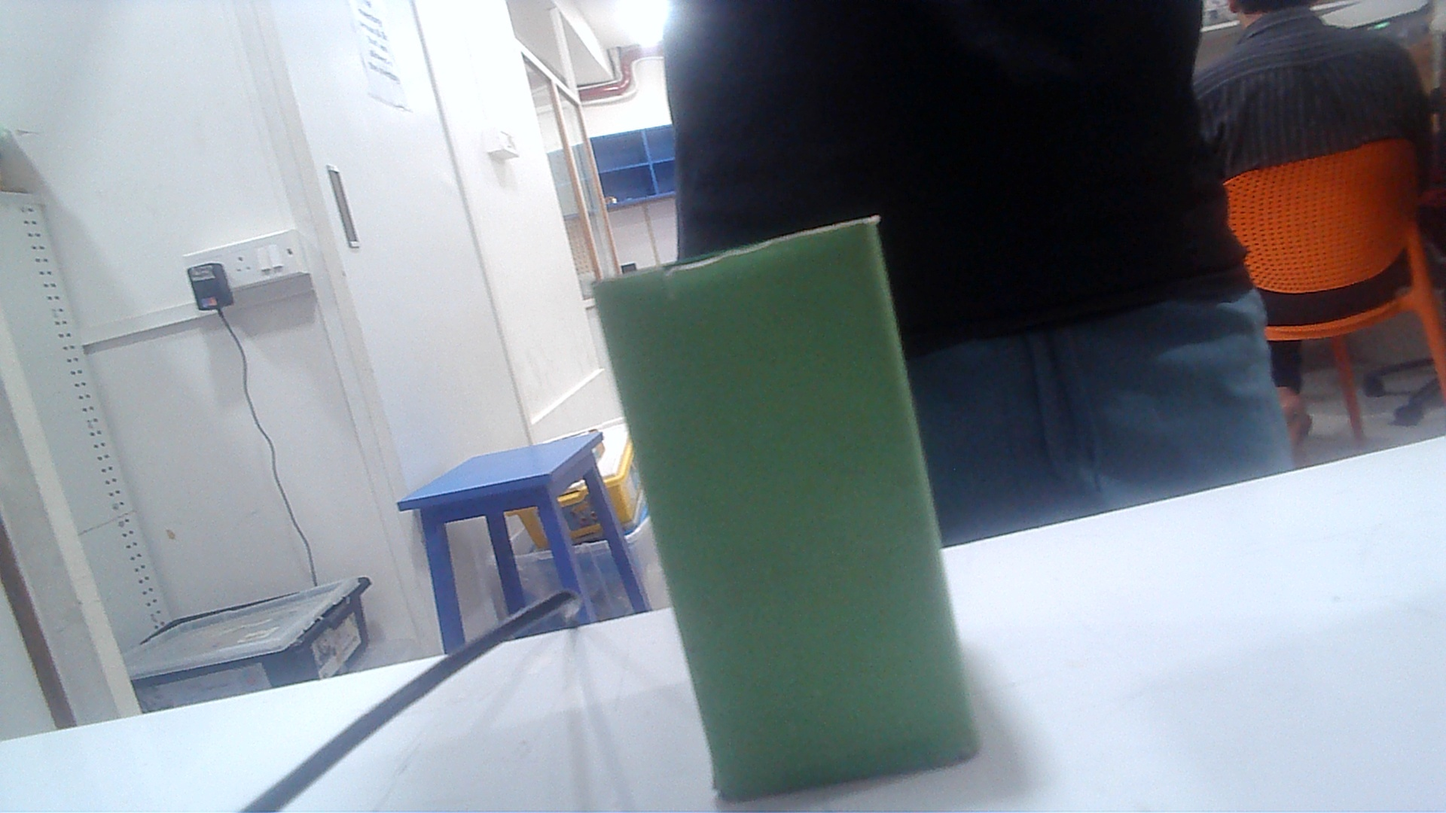green: (578, 205, 985, 792)
